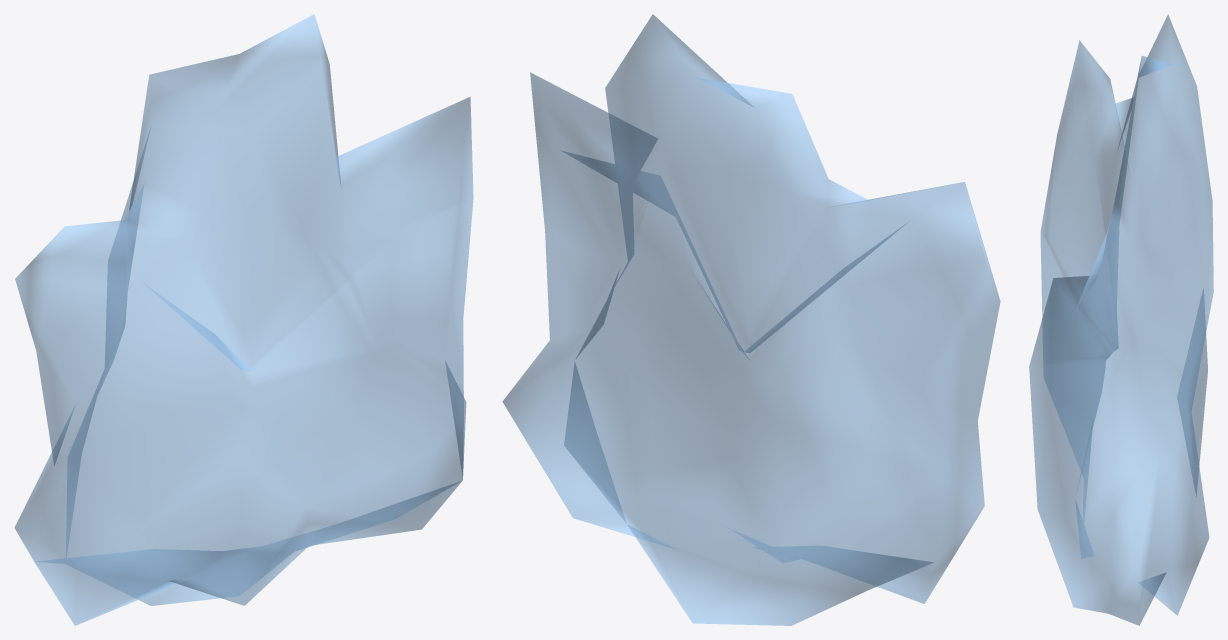
Rendered from mcocoon_shield.gltf.
3 views of the same model, side by side, from view 1: azimuth 30°, elevation 25°; view 2: azimuth 150°, elevation 25°; view 3: azimuth 270°, elevation 25° (orthographic).
Parts seen in each view (by area): view 1: mcocoon.shield; view 2: mcocoon.shield; view 3: mcocoon.shield.
Boxes of the visible parts, box(x1,y1,x2,y2) form: mcocoon.shield: box(14, 14, 473, 625); mcocoon.shield: box(502, 14, 1000, 625); mcocoon.shield: box(1029, 14, 1213, 625).
Size of the model in its own units: 40.74 by 48.48 by 13.79.
